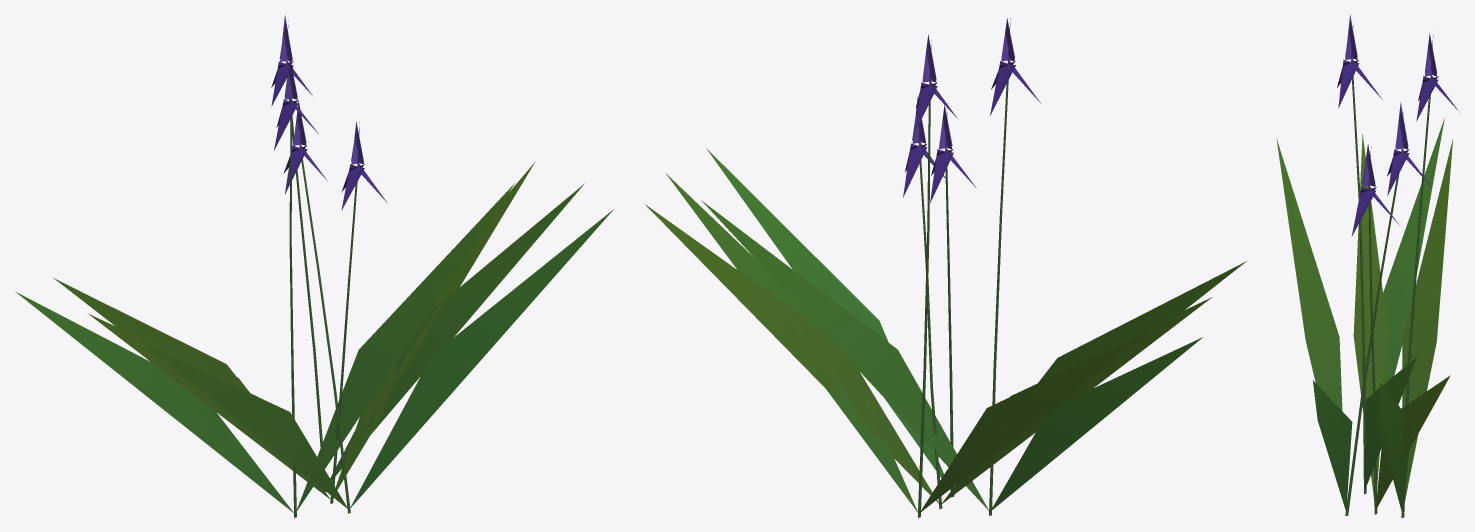
File: flower-iris-b.lod1.glb
The picture shows the model from 3 angles, left to right: view 1: azimuth 30°, elevation 25°; view 2: azimuth 150°, elevation 25°; view 3: azimuth 270°, elevation 25°; orthographic projection. The views are drawn at different scales.
Visible parts, largest first — view 1: flower-iris-b.lod1; view 2: flower-iris-b.lod1; view 3: flower-iris-b.lod1.
Part boxes in pixels (bbox=[...]): flower-iris-b.lod1: bbox=[15, 15, 613, 517]; flower-iris-b.lod1: bbox=[645, 18, 1246, 517]; flower-iris-b.lod1: bbox=[1276, 14, 1459, 517].
Size of the model in its own units: 0.9341 by 0.7822 by 0.2739.
